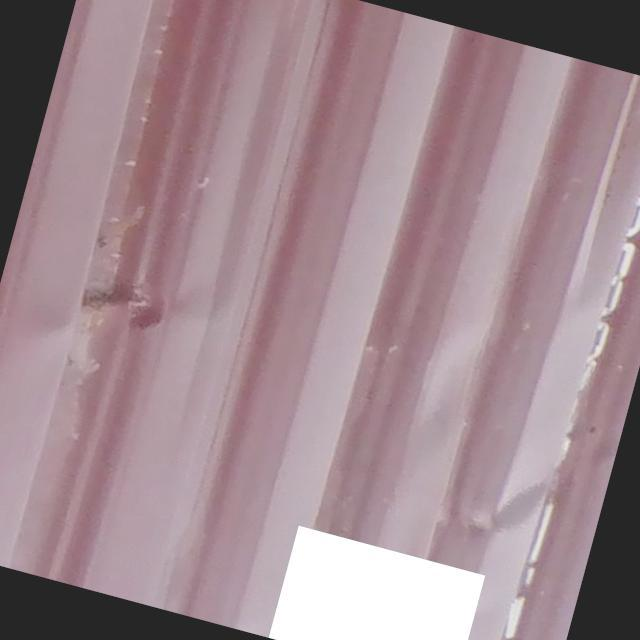dent: (64, 269, 184, 350)
